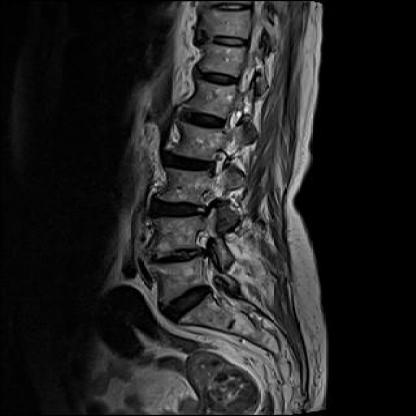Annular Tearrotation: (159, 290, 217, 316), (153, 247, 202, 269)
Disc Bulgerotation: (159, 290, 217, 316), (163, 152, 213, 175), (178, 107, 228, 130), (153, 247, 201, 269)
